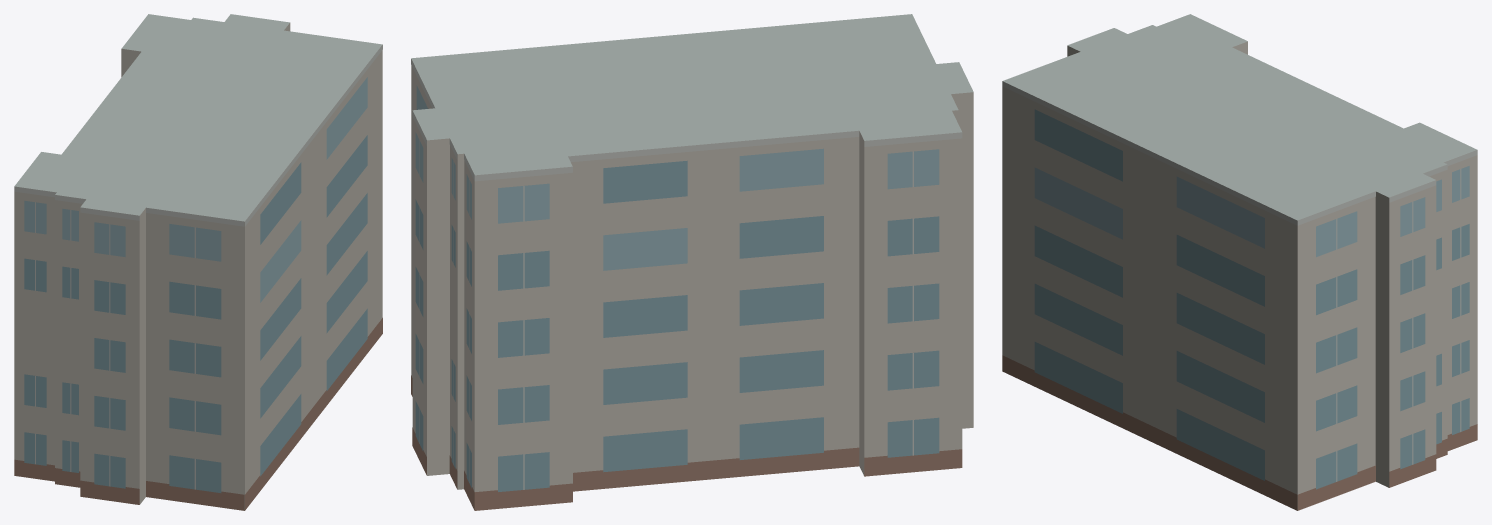
File: survey-upis-32793641.glb
3 views of the same model, side by side, from view 1: azimuth 30°, elevation 25°; view 2: azimuth 150°, elevation 25°; view 3: azimuth 270°, elevation 25° (orthographic). The views are drawn at different scales.
Parts seen in each view (by area): view 1: survey-upis-32793641.tmp; view 2: survey-upis-32793641.tmp; view 3: survey-upis-32793641.tmp.
Boxes of the visible parts, x1,y1,x2,y2 form: survey-upis-32793641.tmp: (14,14,382,510); survey-upis-32793641.tmp: (411,14,973,510); survey-upis-32793641.tmp: (1002,14,1477,510).
Size of the model in its own units: 20.61 by 13.5 by 20.03.
